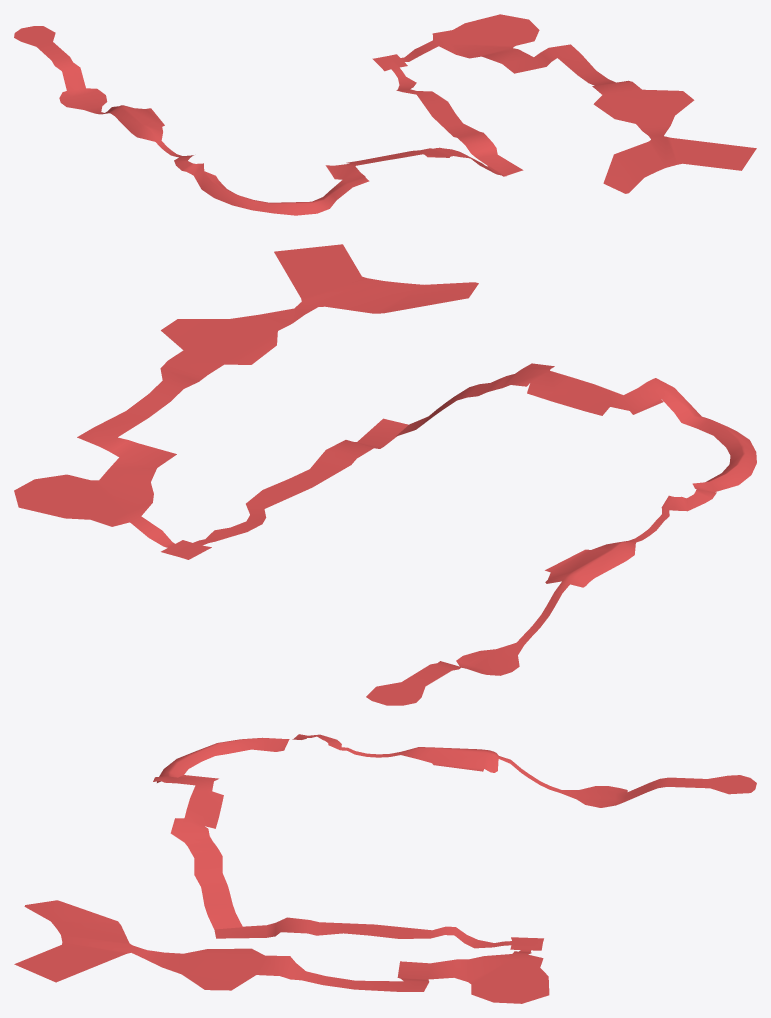
Rendered from S_Bsp_Terrain_1000.FBX.
3 renders of one model, top to bottom at view 1: azimuth 30°, elevation 25°; view 2: azimuth 150°, elevation 25°; view 3: azimuth 270°, elevation 25°, orthographic. The views are drawn at different scales.
Visible parts, largest first — view 1: S_Bsp_Terrain_1000; view 2: S_Bsp_Terrain_1000; view 3: S_Bsp_Terrain_1000.
Boxes of the visible parts, x1,y1,x2,y2 form: S_Bsp_Terrain_1000: (14, 14, 756, 215); S_Bsp_Terrain_1000: (14, 244, 756, 705); S_Bsp_Terrain_1000: (14, 734, 756, 1003).
Size of the model in its own units: 33891 by 4106 by 43189.
